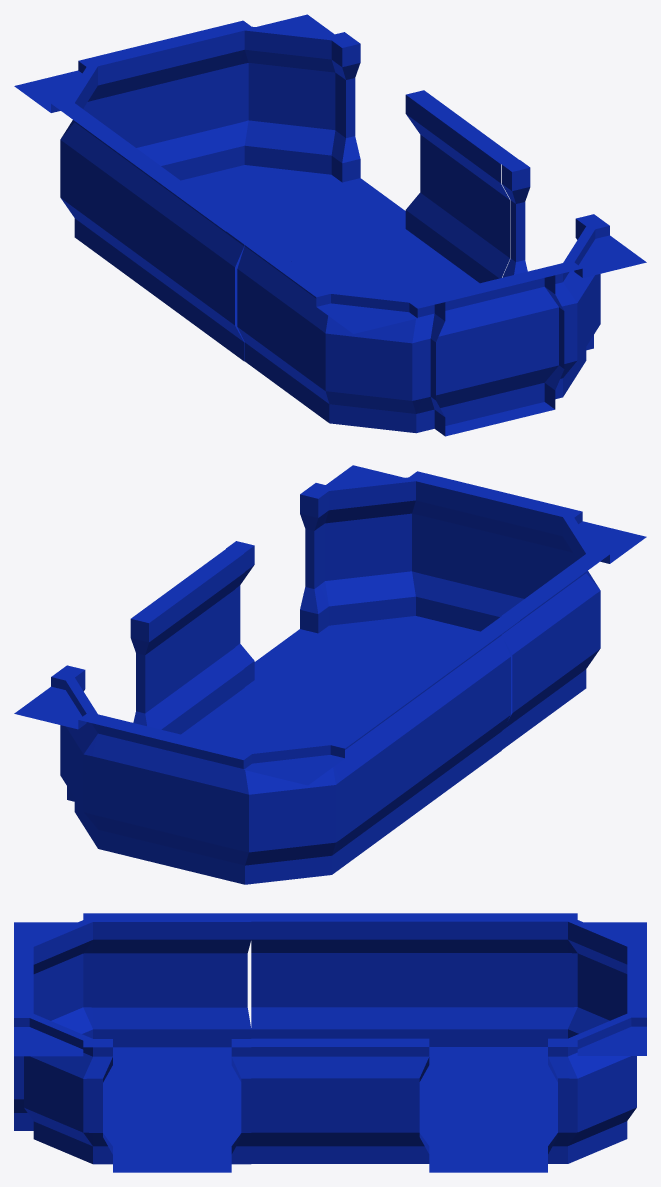
Rendered from 2x1_UBend2.FBX.
The picture shows the model from 3 angles, top to bottom: view 1: azimuth 30°, elevation 25°; view 2: azimuth 150°, elevation 25°; view 3: azimuth 270°, elevation 25°; orthographic projection. The views are drawn at different scales.
Visible parts, largest first — view 1: 2x1_UBend1; view 2: 2x1_UBend1; view 3: 2x1_UBend1.
Boxes of the visible parts, bbox=[...] form: 2x1_UBend1: bbox=[14, 14, 646, 436]; 2x1_UBend1: bbox=[14, 465, 646, 884]; 2x1_UBend1: bbox=[14, 913, 646, 1172].
Size of what is drawn, in the model's own units: 801 by 350 by 1600.
